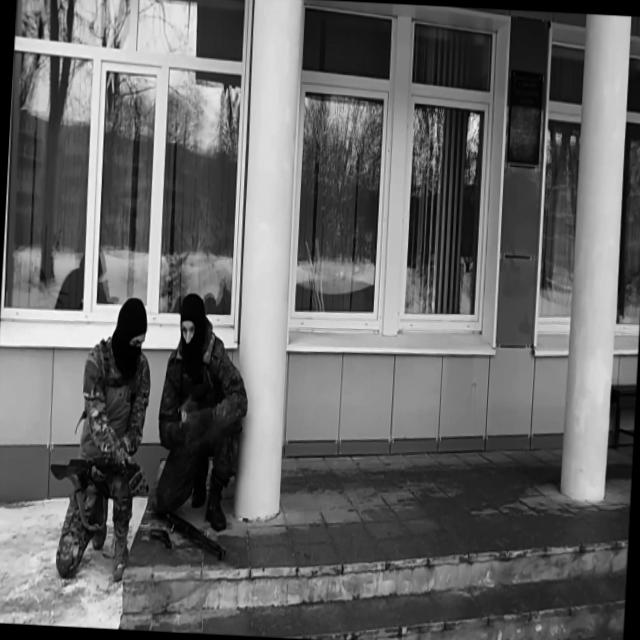gun: (144, 492, 231, 562), (49, 453, 140, 504), (148, 526, 175, 552)
person with a gun: (44, 292, 160, 584), (153, 291, 255, 534)
